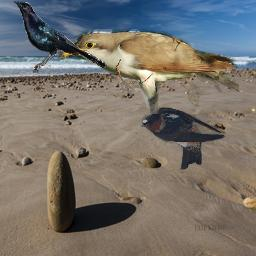Crow: (13, 1, 107, 73)
Cuckoo: (58, 29, 239, 115)
Swallow: (140, 106, 226, 170)
